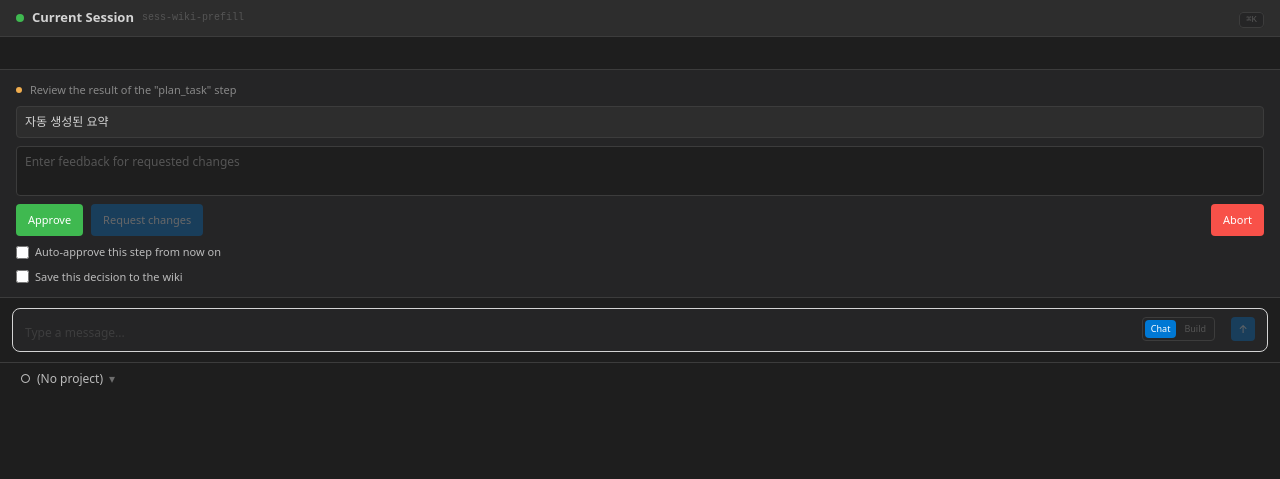
Test: ChatView › 위키 저장 체크 시 편집 가능한 summary textarea가 요약으로 prefill된다
This screenshot has width=1280, height=479.
What coordinates should you click on to do the following:
click the checkbox with test id "approval-save-wiki"
I would click on:
 (22, 277)
Its box is [16,270,29,283].
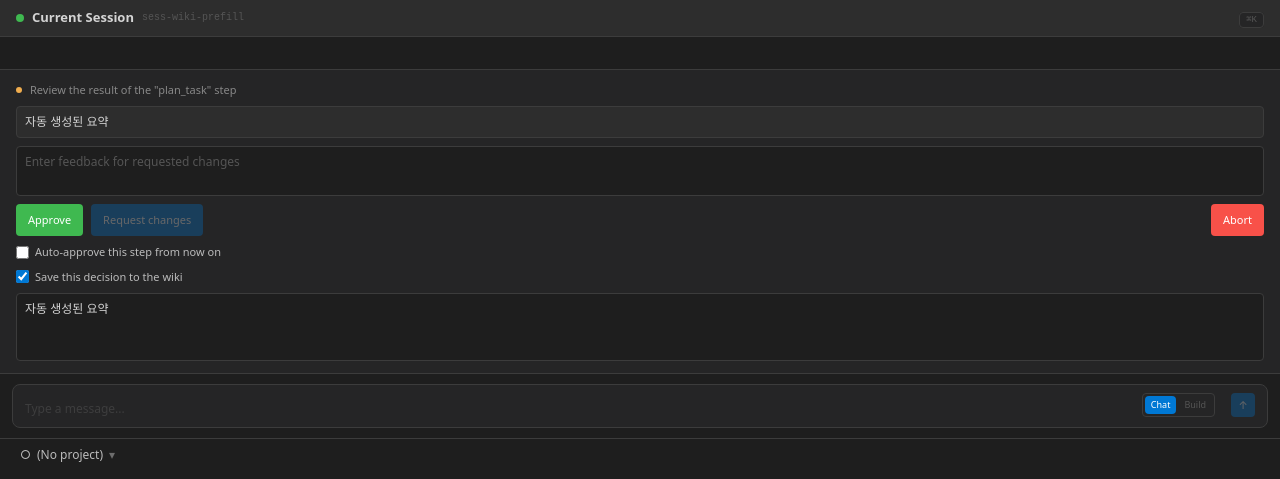
Expected: the text box with test id "approval-wiki-summary" holds "자동 생성된 요약", [16,293,1264,361]
